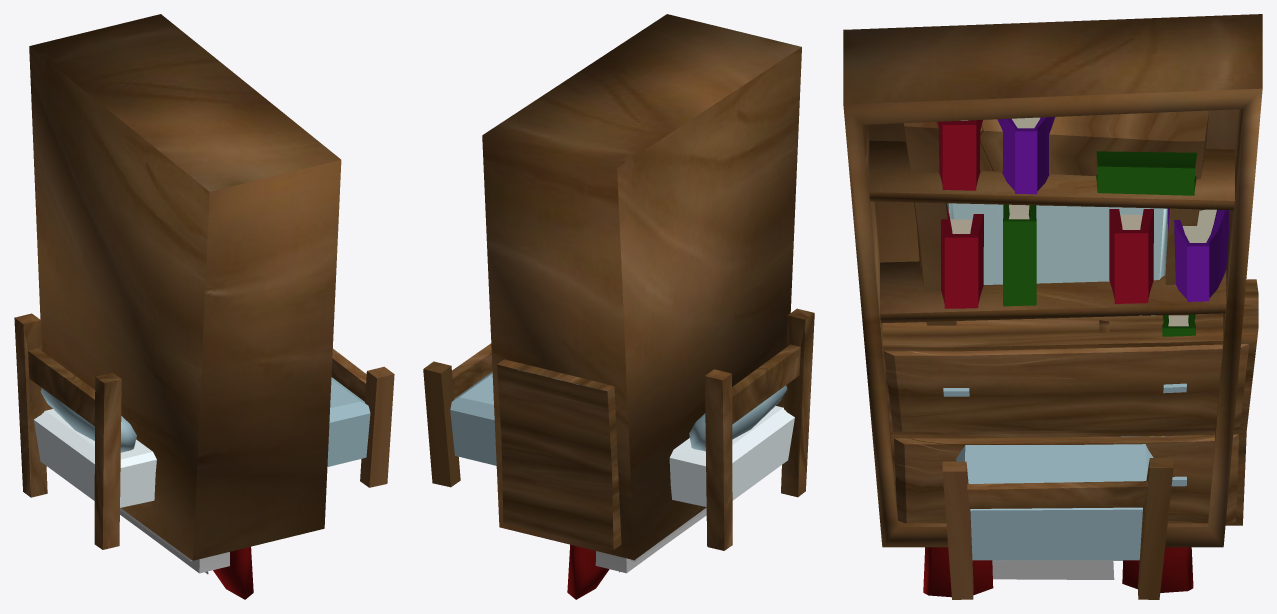
The model's file is SM_Environment01.fbx.
The picture shows the model from 3 angles, left to right: view 1: azimuth 30°, elevation 25°; view 2: azimuth 150°, elevation 25°; view 3: azimuth 270°, elevation 25°; orthographic projection. The views are drawn at different scales.
Parts seen in each view (by area): view 1: SM_Bookshelf, SM_Bed, SM_Glass3; view 2: SM_Bookshelf, SM_Bed, SM_Cupboard, SM_Glass3; view 3: SM_Bookshelf, SM_Cupboard, SM_Bed, SM_Door, SM_Book1, SM_Book4, SM_Book5, SM_Glass3, SM_Book7, SM_Book6, SM_Book3, SM_Book2 (+2 smaller).
Part boxes in pixels (bbox=[...]): SM_Bookshelf: bbox=[29, 14, 341, 560]; SM_Bed: bbox=[14, 313, 394, 549]; SM_Glass3: bbox=[120, 508, 253, 599]; SM_Bookshelf: bbox=[482, 14, 801, 560]; SM_Bed: bbox=[423, 308, 814, 550]; SM_Cupboard: bbox=[497, 359, 621, 549]; SM_Glass3: bbox=[567, 507, 706, 599]; SM_Bookshelf: bbox=[843, 14, 1262, 547]; SM_Cupboard: bbox=[882, 279, 1258, 525]; SM_Bed: bbox=[942, 444, 1173, 599]; SM_Door: bbox=[903, 110, 1208, 332]; SM_Book1: bbox=[1096, 151, 1196, 195]; SM_Book4: bbox=[1167, 208, 1228, 301]; SM_Book5: bbox=[1109, 209, 1153, 303]; SM_Glass3: bbox=[923, 547, 1193, 597]; SM_Book7: bbox=[941, 207, 983, 308]; SM_Book6: bbox=[1003, 204, 1036, 306]; SM_Book3: bbox=[997, 117, 1054, 194]; SM_Book2: bbox=[937, 120, 982, 190].
Size of the model in its own units: 45.21 by 70.17 by 49.3.
